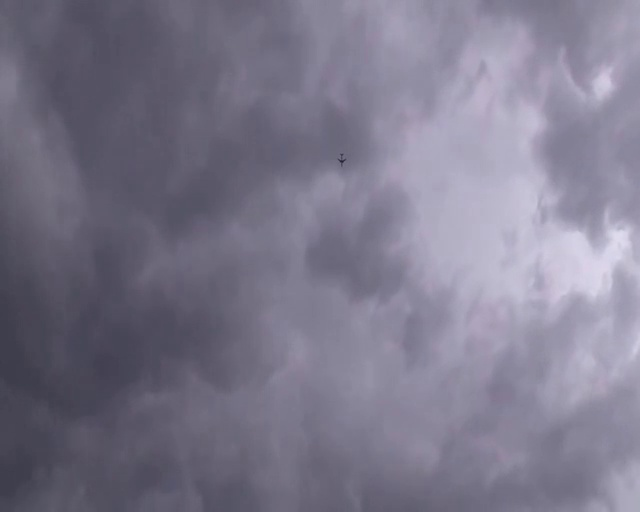AIRPLANE: (336, 152, 346, 165)
